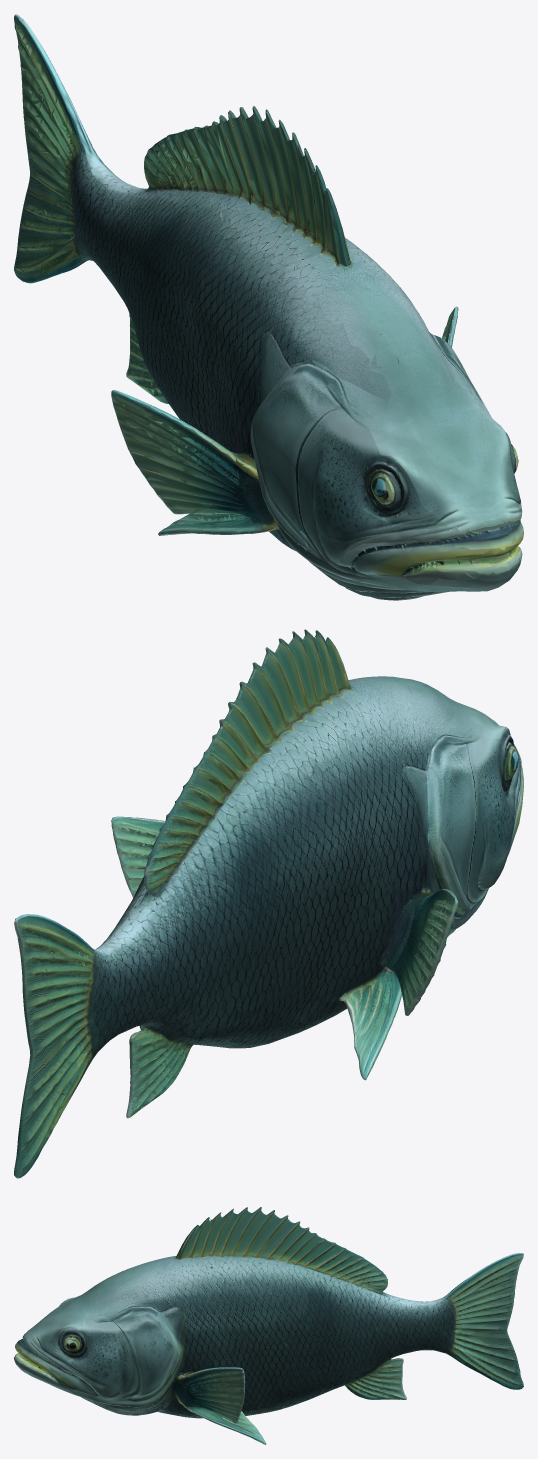
File: fish_slate_cod.glb
The picture shows the model from 3 angles, top to bottom: view 1: azimuth 30°, elevation 25°; view 2: azimuth 150°, elevation 25°; view 3: azimuth 270°, elevation 25°; orthographic projection. The views are drawn at different scales.
Size of the model in its own units: 0.7781 by 0.8676 by 1.9.
1 material, 1 textured.
